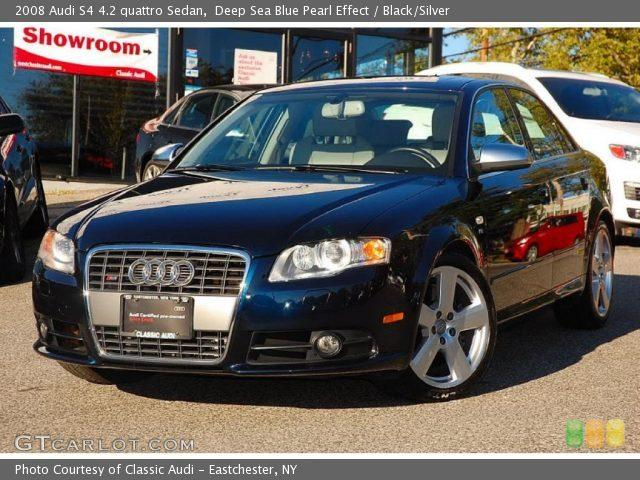Sedan: (30, 73, 617, 400), (412, 60, 639, 242), (0, 92, 49, 284)
